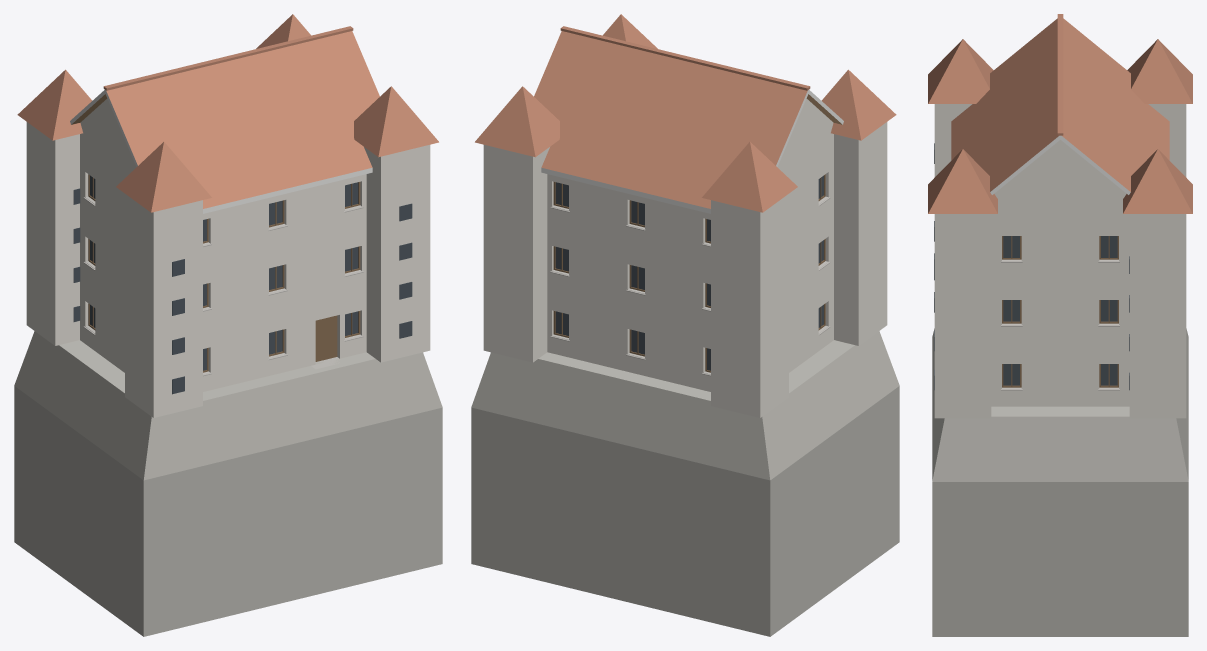
The model's file is nordic_castle_3_s.glb.
3 renders of one model, left to right at view 1: azimuth 30°, elevation 25°; view 2: azimuth 150°, elevation 25°; view 3: azimuth 270°, elevation 25°, orthographic.
Visible parts, largest first — view 1: nordic_castle_3_s; view 2: nordic_castle_3_s; view 3: nordic_castle_3_s.
Part boxes in pixels (x1,y1,x2,y2): nordic_castle_3_s: (14, 14, 442, 636); nordic_castle_3_s: (471, 14, 899, 636); nordic_castle_3_s: (928, 14, 1192, 636).
Size of the model in its own units: 16 by 25.35 by 12.39.
